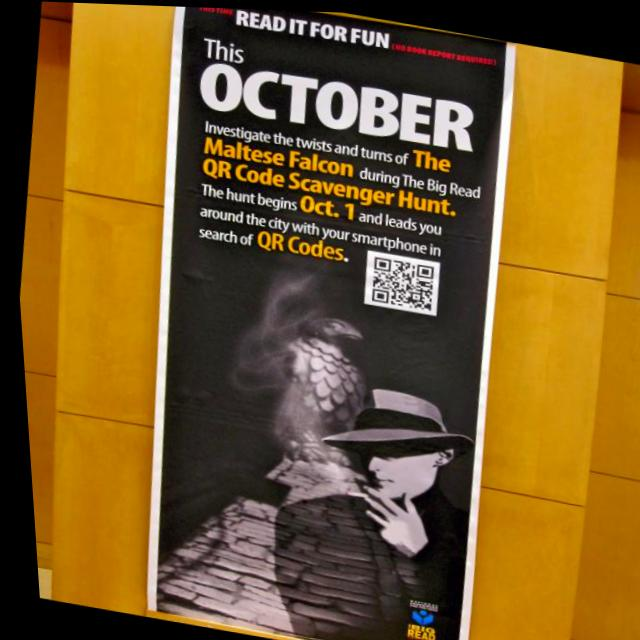qrcode: (365, 255, 434, 309)
